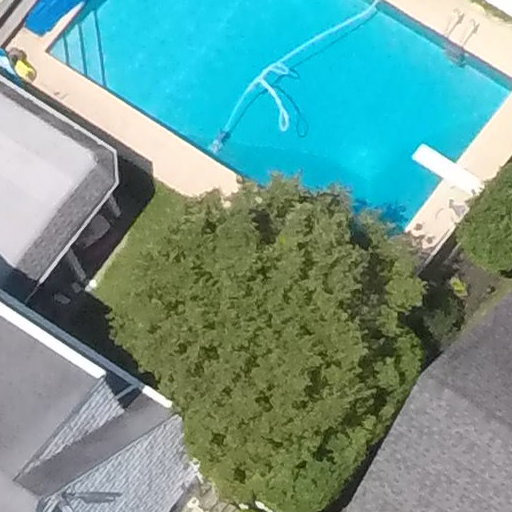pool: (41, 1, 512, 274)
